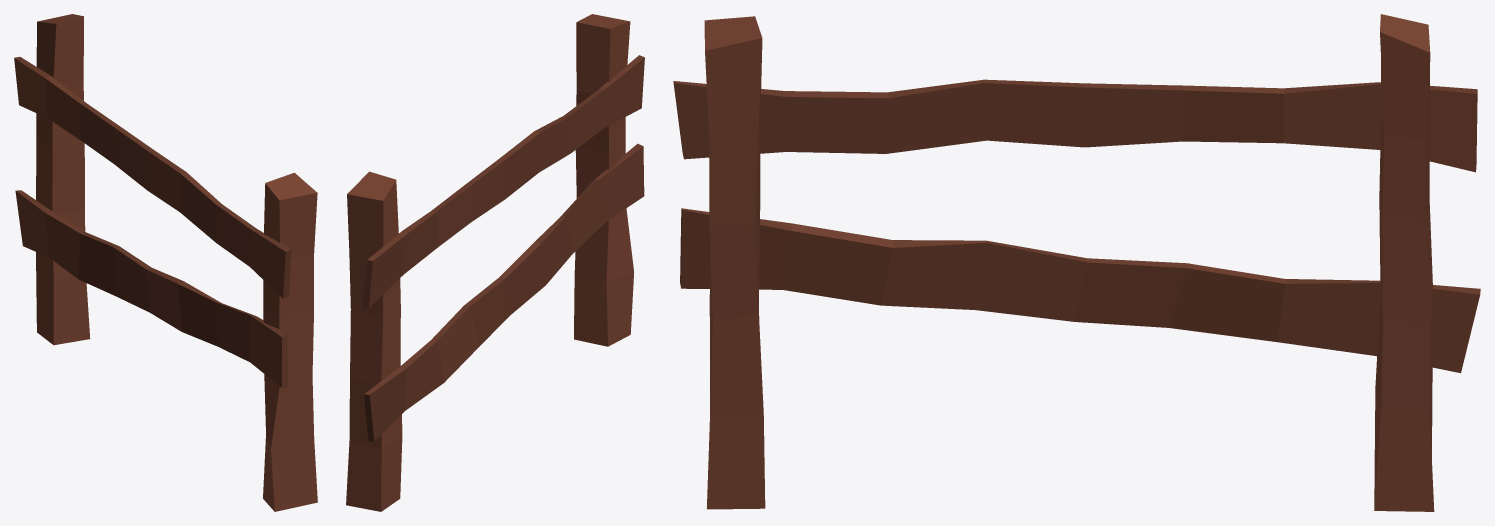
Rendered from cerca_one.fbx.
3 views of the same model, side by side, from view 1: azimuth 30°, elevation 25°; view 2: azimuth 150°, elevation 25°; view 3: azimuth 270°, elevation 25° (orthographic). The views are drawn at different scales.
Parts seen in each view (by area): view 1: Cube.001, Cube; view 2: Cube.001, Cube; view 3: Cube.001, Cube.
Boxes of the visible parts, box(x1,y1,x2,y2) form: Cube.001: box(14, 57, 291, 388); Cube: box(36, 14, 317, 511); Cube.001: box(362, 55, 644, 441); Cube: box(346, 14, 633, 511); Cube.001: box(673, 79, 1480, 373); Cube: box(704, 14, 1434, 511).
Bounding box in the file's own units: 55.02 × 368 × 566.
